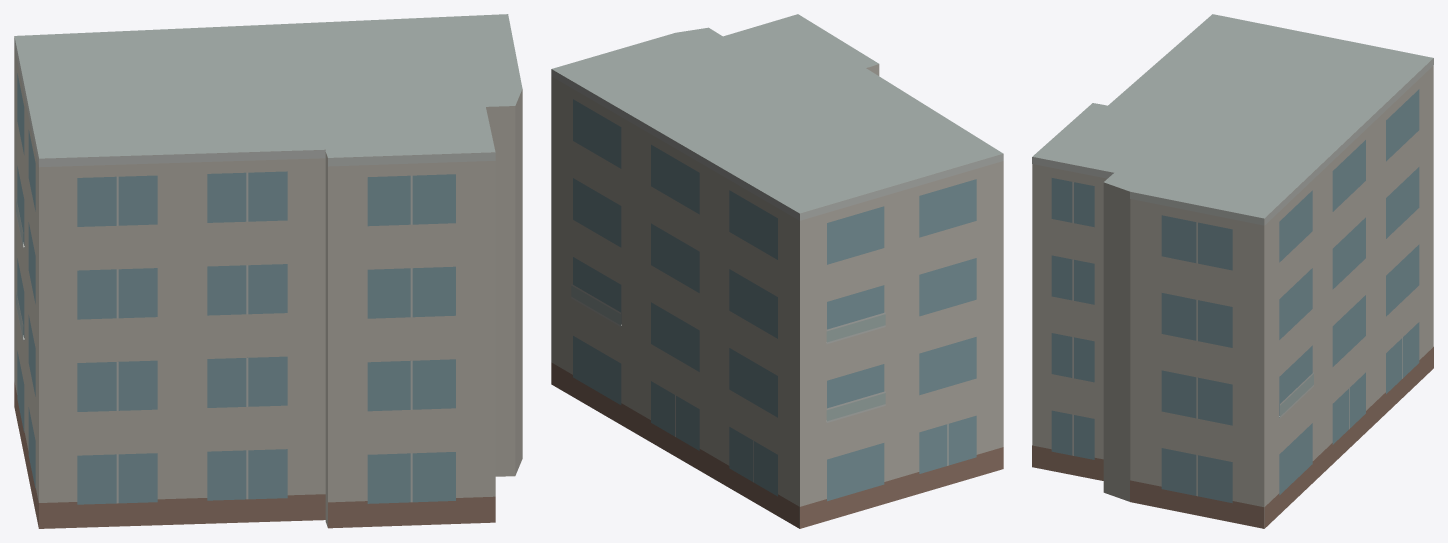
File: survey-upis-33046753.glb
The picture shows the model from 3 angles, left to right: view 1: azimuth 30°, elevation 25°; view 2: azimuth 150°, elevation 25°; view 3: azimuth 270°, elevation 25°; orthographic projection. The views are drawn at different scales.
Visible parts, largest first — view 1: survey-upis-33046753.tmp; view 2: survey-upis-33046753.tmp; view 3: survey-upis-33046753.tmp.
Part boxes in pixels (bbox=[...]): survey-upis-33046753.tmp: bbox=[14, 14, 522, 528]; survey-upis-33046753.tmp: bbox=[551, 14, 1003, 528]; survey-upis-33046753.tmp: bbox=[1032, 14, 1433, 528].
Size of the model in its own units: 14.92 by 10.55 by 12.38.
